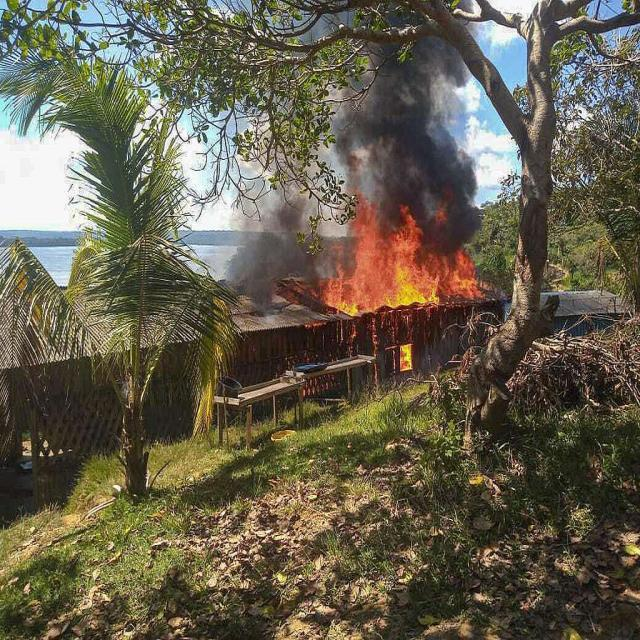Fire: (306, 200, 480, 344)
Smoke: (347, 54, 485, 245)
